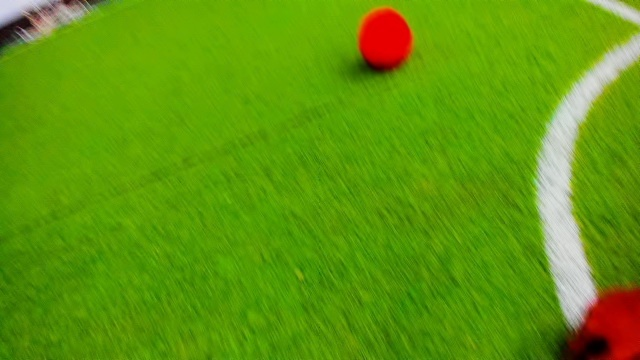ball: (354, 6, 415, 73)
